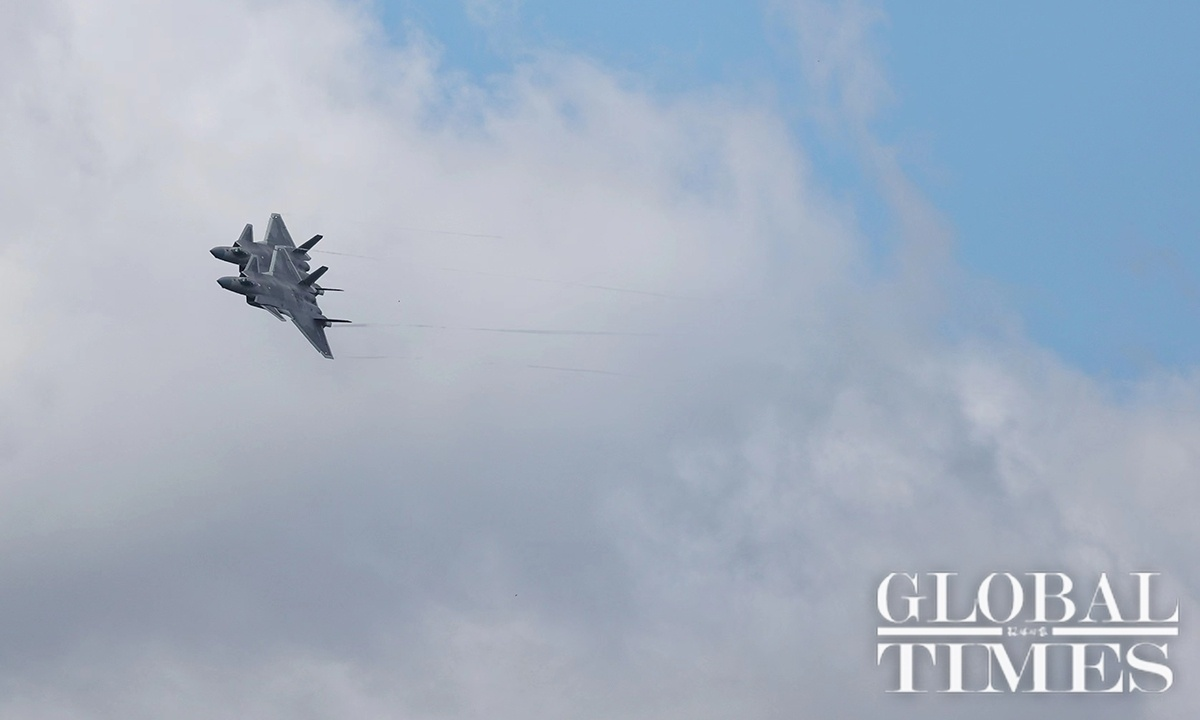J20: (215, 244, 353, 360), (208, 212, 345, 296)
